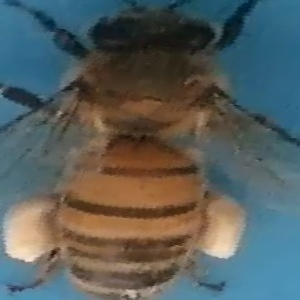bee: (2, 4, 295, 300)
